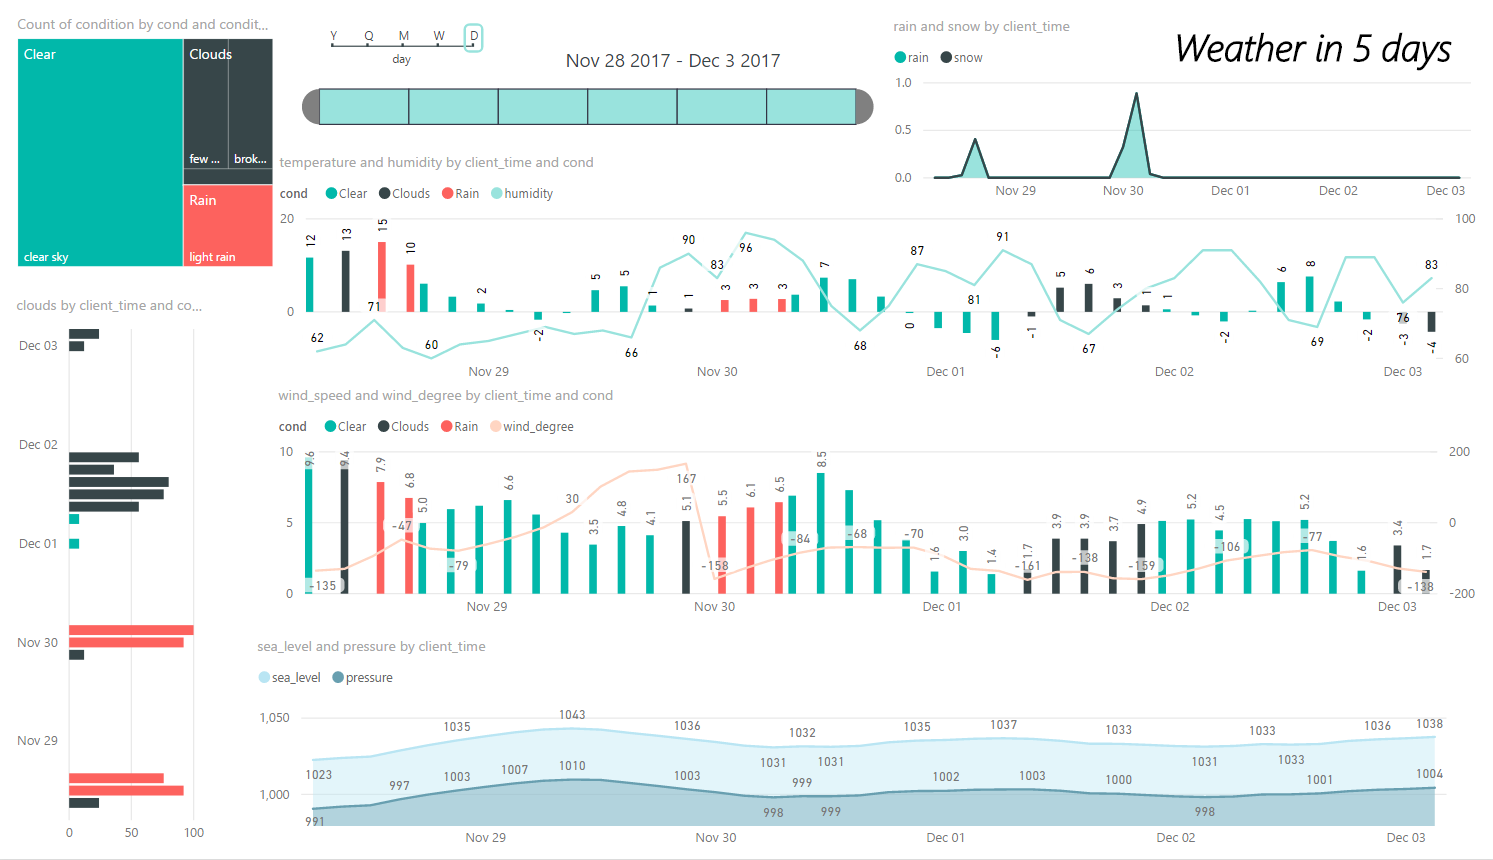

This screenshot's page, from the dashboard's own definition file:
{"tool":"powerbi","page":{"name":"weather forcast","canvas":[1280,720],"ordinal":1},"visuals":[{"type":"lineClusteredColumnComboChart","fields":{"Y2":["Sum(weatherData.humidity)"],"Y":["Sum(weatherData.temperature)"],"Series":["weatherData.cond"],"Category":["weatherData.client_time"]},"box":[236.8,117.6,1030.3,204.8],"z":0},{"type":"treemap","fields":{"Group":["weatherData.cond"],"Details":["weatherData.condition"],"Values":["CountNonNull(weatherData.condition)"]},"box":[13.7,0,222.9,219.4],"z":6},{"type":"stackedAreaChart","fields":{"Category":["weatherData.client_time"],"Y":["Sum(weatherData.rain)","Sum(weatherData.snow)"]},"box":[760.8,1.6,509.8,166.3],"z":8},{"type":"textbox","box":[1000.1,0,279.9,59.4],"z":9},{"type":"lineClusteredColumnComboChart","fields":{"Y":["Sum(weatherData.wind_speed)"],"Y2":["Sum(weatherData.wind_degree)"],"Series":["weatherData.cond"],"Category":["weatherData.client_time"]},"box":[236,316.4,1031.2,206.6],"z":2000},{"type":"areaChart","fields":{"Category":["weatherData.client_time"],"Y":["Sum(weatherData.sea_level)","Sum(weatherData.pressure)"]},"box":[218.7,530.7,1030.3,189.3],"z":3000},{"type":"Timeline1447991079100","fields":{"Time":["weatherData.client_time"]},"box":[255.7,0,512.9,120.8],"z":4000},{"type":"barChart","fields":{"Y":["Sum(weatherData.clouds)"],"Series":["weatherData.cond"],"Category":["weatherData.client_time"]},"box":[12.8,239.6,215.7,477.5],"z":5000}]}

Visuals, with their boxes in screenshot pixels (x1, y1, x2, y2), scaled from the page's 1280x720 canvas onto the 1493x860 screenshot:
lineClusteredColumnComboChart - Sum(weatherData.humidity) x Sum(weatherData.temperature): l=276, t=140, r=1478, b=385
treemap - weatherData.cond x weatherData.condition: l=16, t=0, r=276, b=262
stackedAreaChart - weatherData.client_time x Sum(weatherData.rain): l=887, t=2, r=1482, b=201
textbox: l=1167, t=0, r=1492, b=71
lineClusteredColumnComboChart - Sum(weatherData.wind_speed) x Sum(weatherData.wind_degree): l=275, t=378, r=1478, b=625
areaChart - weatherData.client_time x Sum(weatherData.sea_level): l=255, t=634, r=1457, b=859
Timeline1447991079100 - weatherData.client_time: l=298, t=0, r=896, b=144
barChart - Sum(weatherData.clouds) x weatherData.cond: l=15, t=286, r=267, b=857
